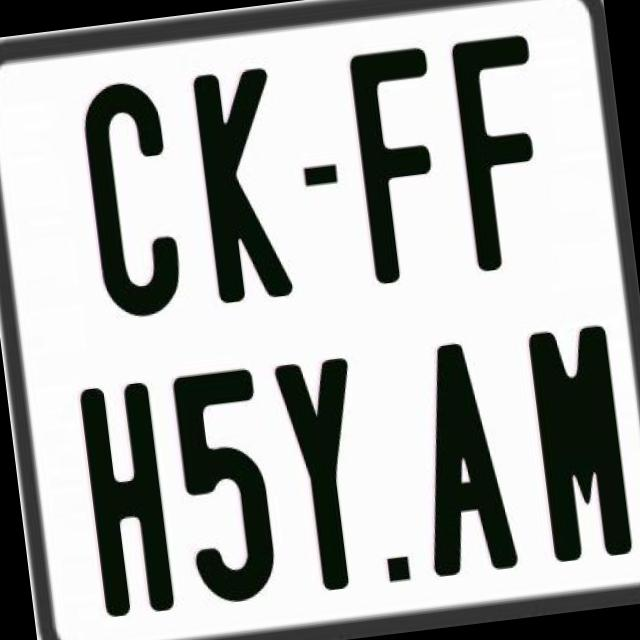5: (166, 366, 278, 606)
A: (406, 333, 526, 574)
C: (79, 74, 191, 316)
F: (449, 30, 560, 268), (348, 42, 458, 282)
H: (76, 376, 180, 620)
K: (190, 67, 296, 312)
M: (522, 322, 636, 566)
Y: (273, 357, 375, 599)
